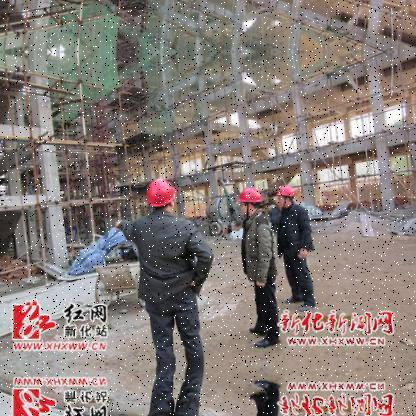Helmet: (146, 178, 178, 214), (238, 184, 270, 214), (275, 182, 295, 212)
